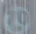Speed limit: (2, 3, 33, 33)
